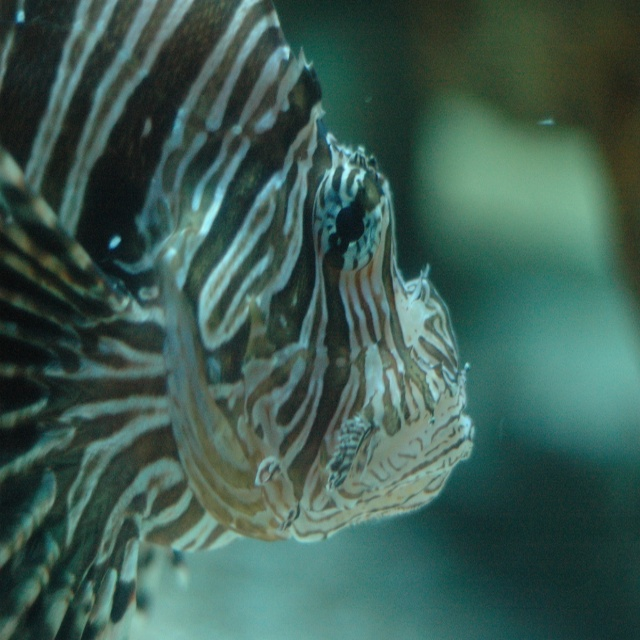Fish: (50, 0, 485, 595)
